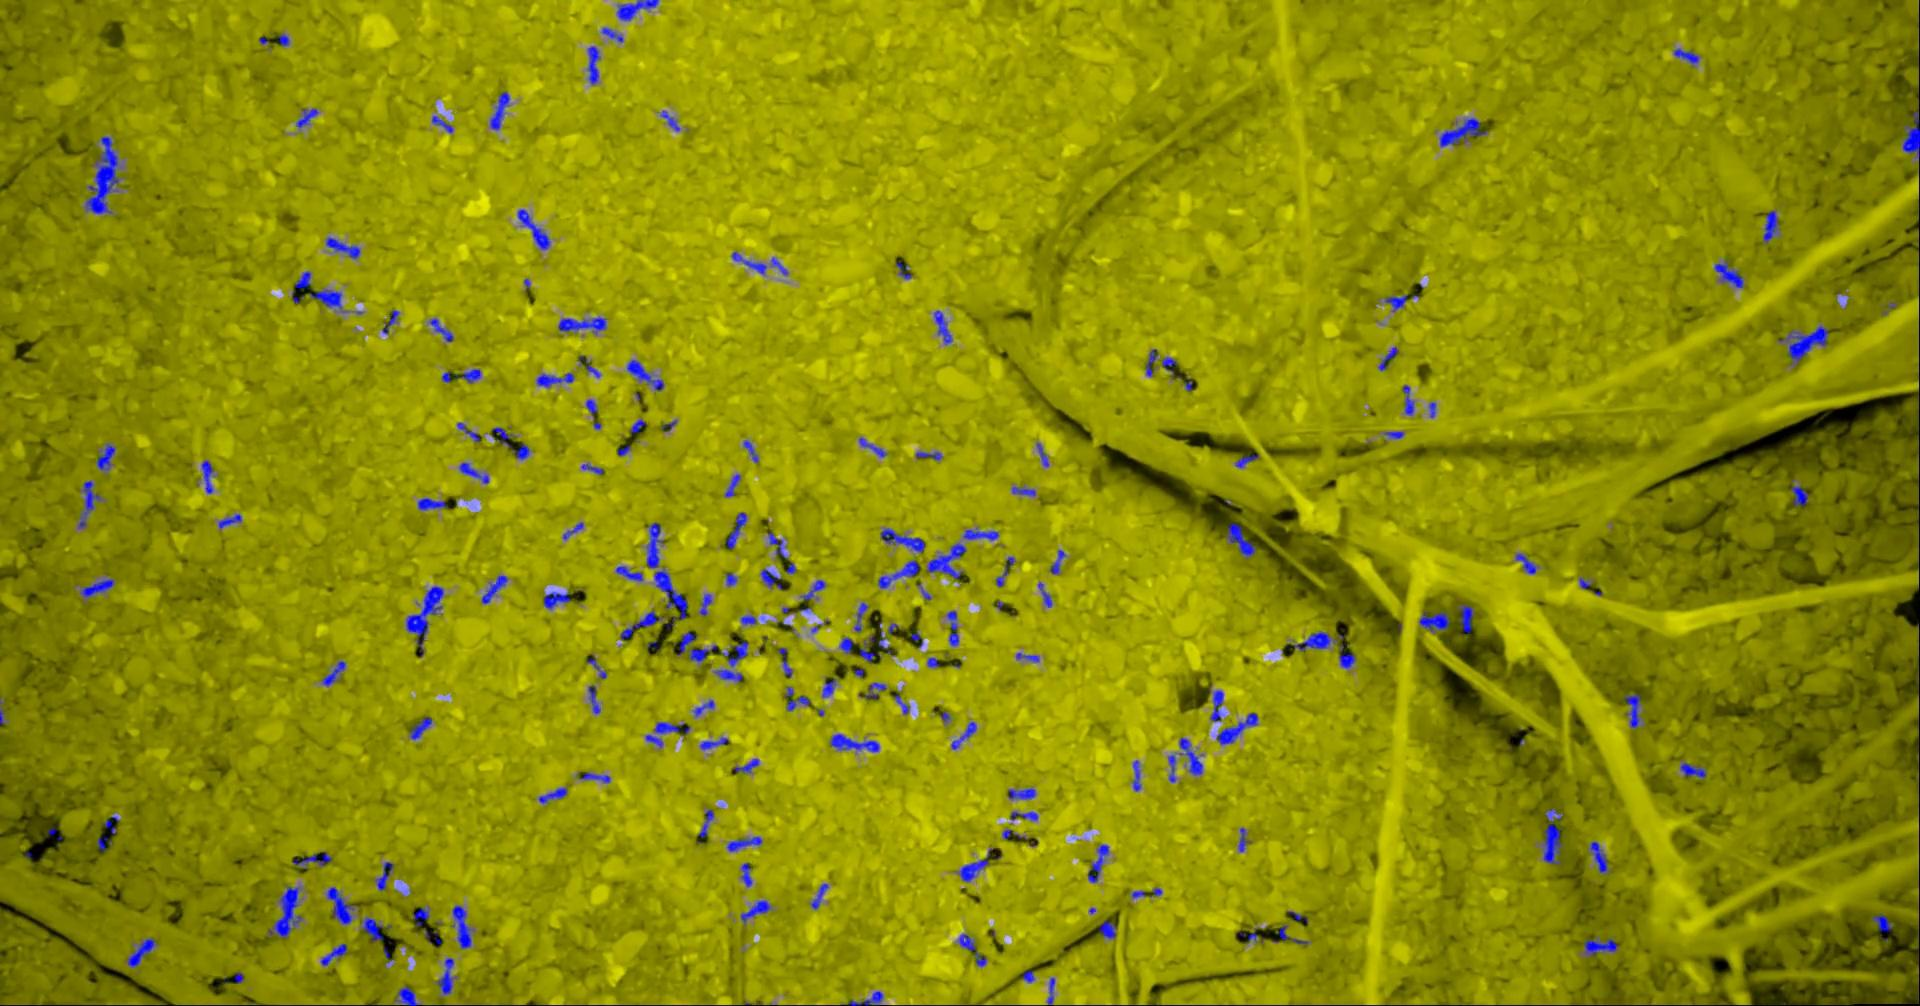ant: (646, 522, 687, 627), (405, 586, 443, 655), (1778, 325, 1829, 365), (265, 887, 301, 937), (926, 542, 966, 578), (714, 640, 747, 682), (1439, 117, 1486, 146), (517, 210, 550, 249), (1217, 713, 1257, 744), (620, 608, 660, 639), (877, 559, 919, 588), (676, 631, 716, 661), (957, 848, 992, 882), (880, 527, 924, 553), (645, 721, 690, 747), (626, 359, 663, 390), (1543, 808, 1562, 865), (77, 480, 100, 527), (1225, 522, 1255, 558), (1902, 98, 1919, 158), (326, 887, 353, 923), (957, 934, 985, 967), (1178, 737, 1203, 775), (126, 937, 156, 967), (829, 733, 879, 751), (616, 0, 658, 20), (1713, 259, 1743, 287), (1087, 843, 1109, 882), (451, 904, 470, 948), (731, 251, 766, 274), (489, 91, 509, 130), (557, 318, 606, 333), (325, 238, 361, 258), (725, 512, 745, 547), (481, 575, 507, 603), (951, 721, 977, 749), (362, 917, 391, 941), (1293, 631, 1330, 650), (292, 851, 331, 869), (309, 288, 342, 309), (933, 310, 952, 344), (740, 901, 770, 922), (80, 578, 113, 597), (437, 956, 453, 995), (1418, 611, 1449, 631), (1277, 923, 1308, 944), (783, 686, 809, 710), (1589, 841, 1608, 873), (458, 462, 488, 483), (1583, 937, 1617, 955), (321, 661, 345, 685), (536, 372, 574, 387), (320, 942, 345, 965), (858, 437, 886, 457), (842, 991, 883, 1005), (996, 556, 1015, 586), (429, 318, 453, 340), (441, 368, 480, 382), (1624, 694, 1641, 727), (869, 630, 891, 653), (726, 836, 761, 851), (1377, 345, 1398, 370), (375, 861, 392, 890), (800, 579, 825, 600), (97, 443, 116, 470), (1763, 210, 1778, 243), (542, 591, 570, 608), (578, 354, 599, 377), (409, 716, 430, 739), (587, 46, 599, 84), (767, 532, 786, 558), (810, 883, 828, 909), (759, 568, 782, 588), (394, 984, 417, 1005), (858, 682, 886, 699), (1209, 688, 1223, 721), (698, 809, 712, 842), (587, 654, 606, 678), (963, 527, 998, 540), (538, 788, 568, 803), (1790, 479, 1807, 506), (1679, 762, 1705, 779), (491, 426, 512, 447), (295, 108, 317, 127), (1161, 356, 1180, 379), (456, 422, 479, 441), (615, 565, 643, 580), (201, 460, 213, 493), (1338, 643, 1355, 668), (659, 111, 679, 131), (1515, 553, 1535, 573), (1459, 603, 1473, 633), (1384, 293, 1407, 311), (946, 610, 957, 645), (731, 758, 758, 774), (1402, 384, 1415, 415), (381, 309, 397, 333), (1049, 549, 1065, 573), (1672, 48, 1698, 64), (855, 602, 867, 633), (858, 641, 879, 661), (778, 647, 791, 677), (1870, 915, 1893, 931), (698, 737, 728, 749), (430, 116, 452, 132), (724, 474, 740, 495), (1144, 348, 1157, 376), (417, 497, 444, 509), (1037, 582, 1051, 607), (599, 27, 622, 42), (743, 439, 758, 462), (218, 513, 241, 528), (693, 699, 712, 716), (411, 907, 429, 926), (563, 522, 583, 539), (893, 694, 909, 714), (1236, 453, 1258, 467), (588, 685, 599, 713), (1007, 788, 1035, 799), (771, 257, 787, 276), (579, 772, 610, 782), (1131, 887, 1161, 897), (1098, 920, 1115, 937), (895, 260, 910, 279), (1010, 810, 1037, 821), (1131, 760, 1140, 791), (1036, 442, 1048, 466), (1238, 827, 1250, 851), (698, 593, 711, 615), (295, 271, 310, 288), (510, 445, 530, 459), (822, 678, 836, 697), (839, 636, 855, 653), (104, 815, 118, 833), (740, 862, 750, 887), (916, 451, 941, 460), (1011, 486, 1035, 495), (1015, 652, 1039, 661), (630, 419, 645, 433), (1167, 754, 1175, 782), (1046, 977, 1054, 1005), (582, 464, 602, 474), (97, 836, 110, 850), (585, 399, 596, 417), (1021, 969, 1034, 982), (725, 572, 737, 586), (278, 33, 290, 46), (1384, 431, 1403, 438), (740, 615, 756, 624), (926, 657, 938, 667)
